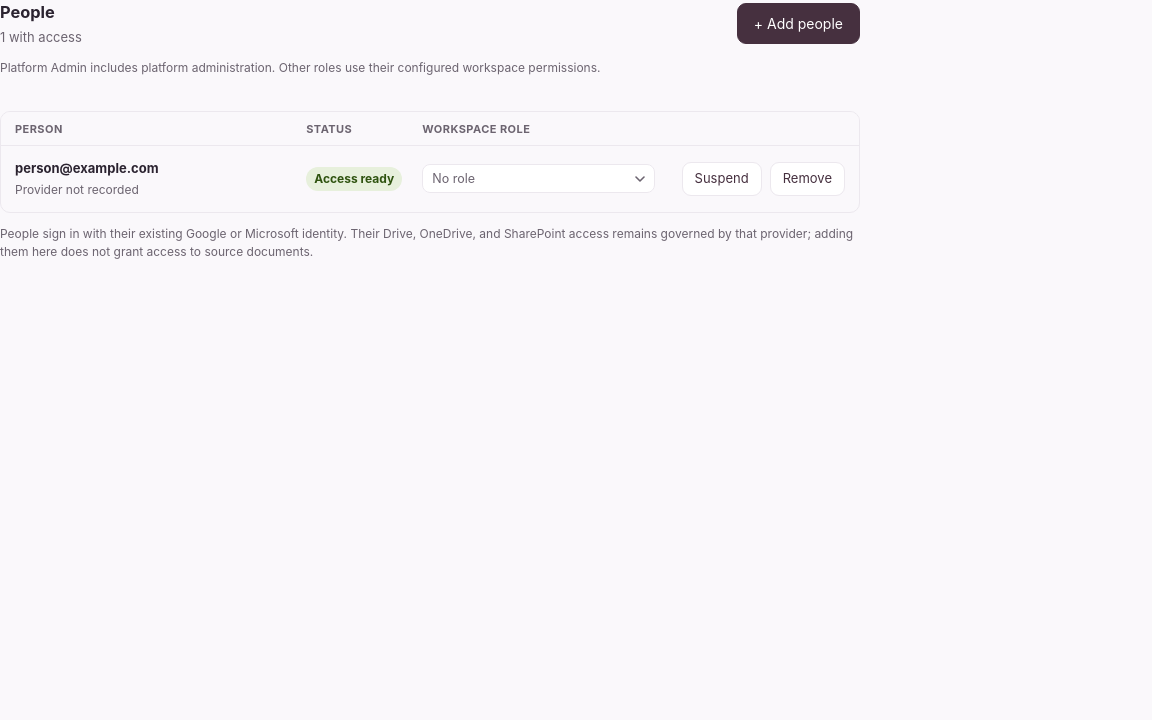
keeps onboarding access distinct from assigning an existing workspace role
The image size is (1152, 720).
Click the button "+ Add people" at (798, 24), box [737,3,860,44]
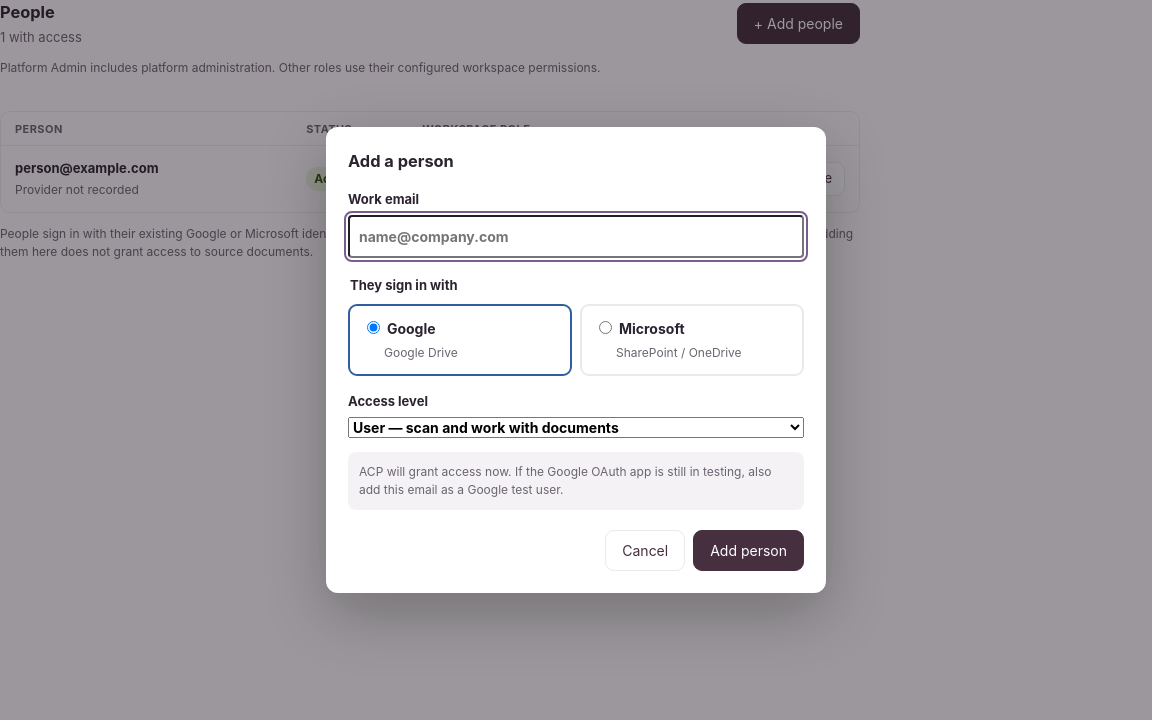
Expected: the label "Access level" is shown, [348,392,804,438]
